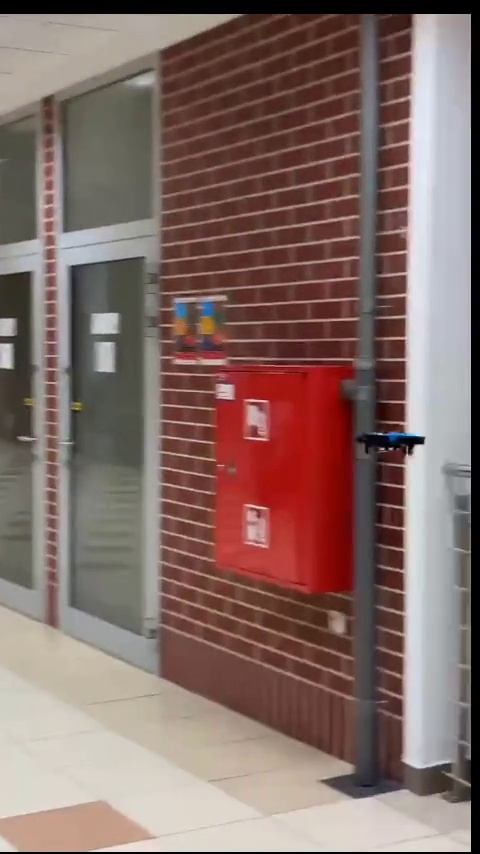drone: (357, 427, 429, 460)
